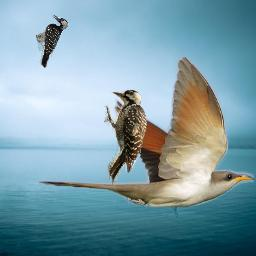Cuckoo: (38, 57, 254, 207)
Woodpecker: (103, 87, 147, 186), (36, 15, 69, 68)
